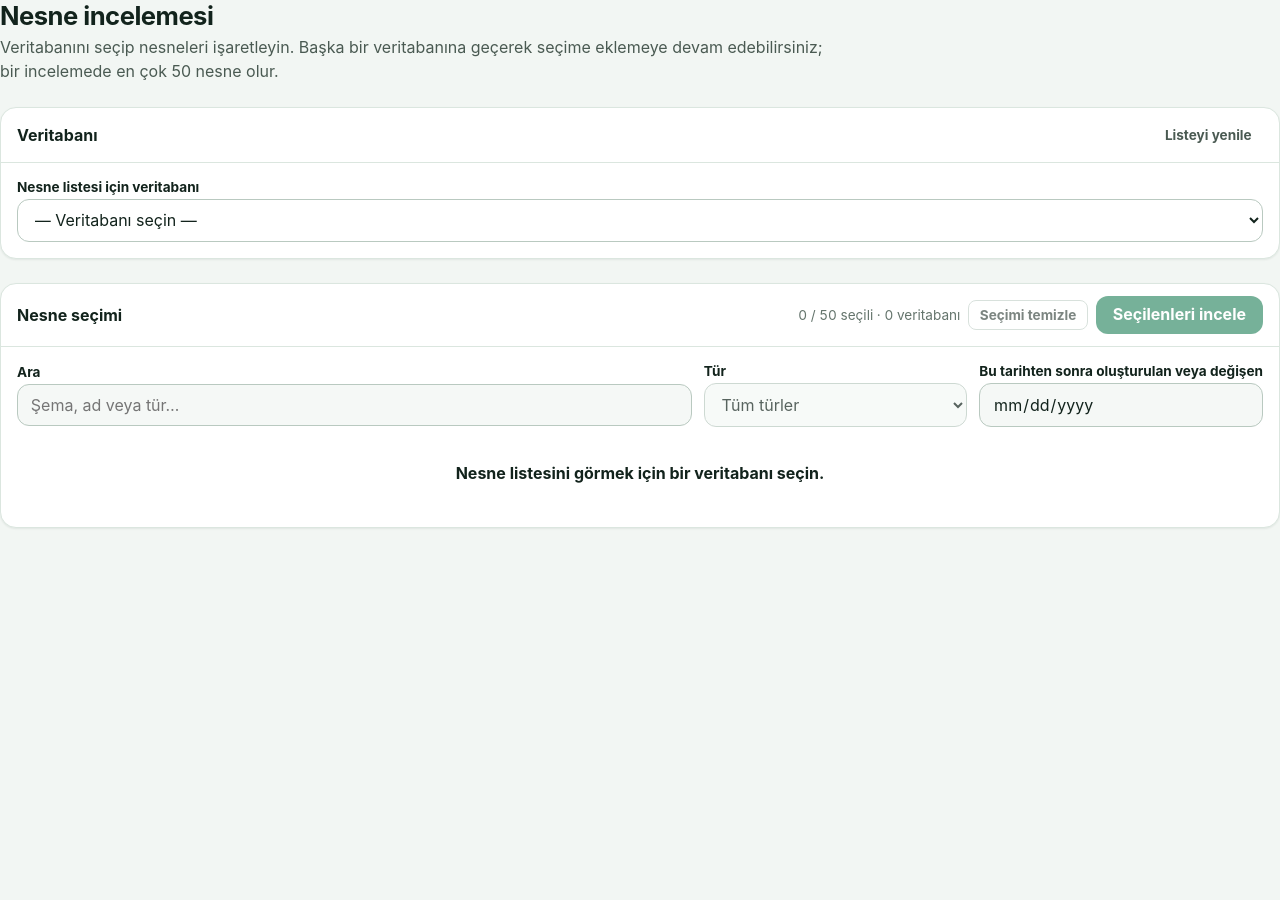
Test: object review page › toggles a row by clicking it and by its checkbox, and clears the selection
This screenshot has width=1280, height=900.
Select "DWH" in the dropdown labelled "Nesne listesi için veritabanı" at (640, 220), box [17,198,1263,242]
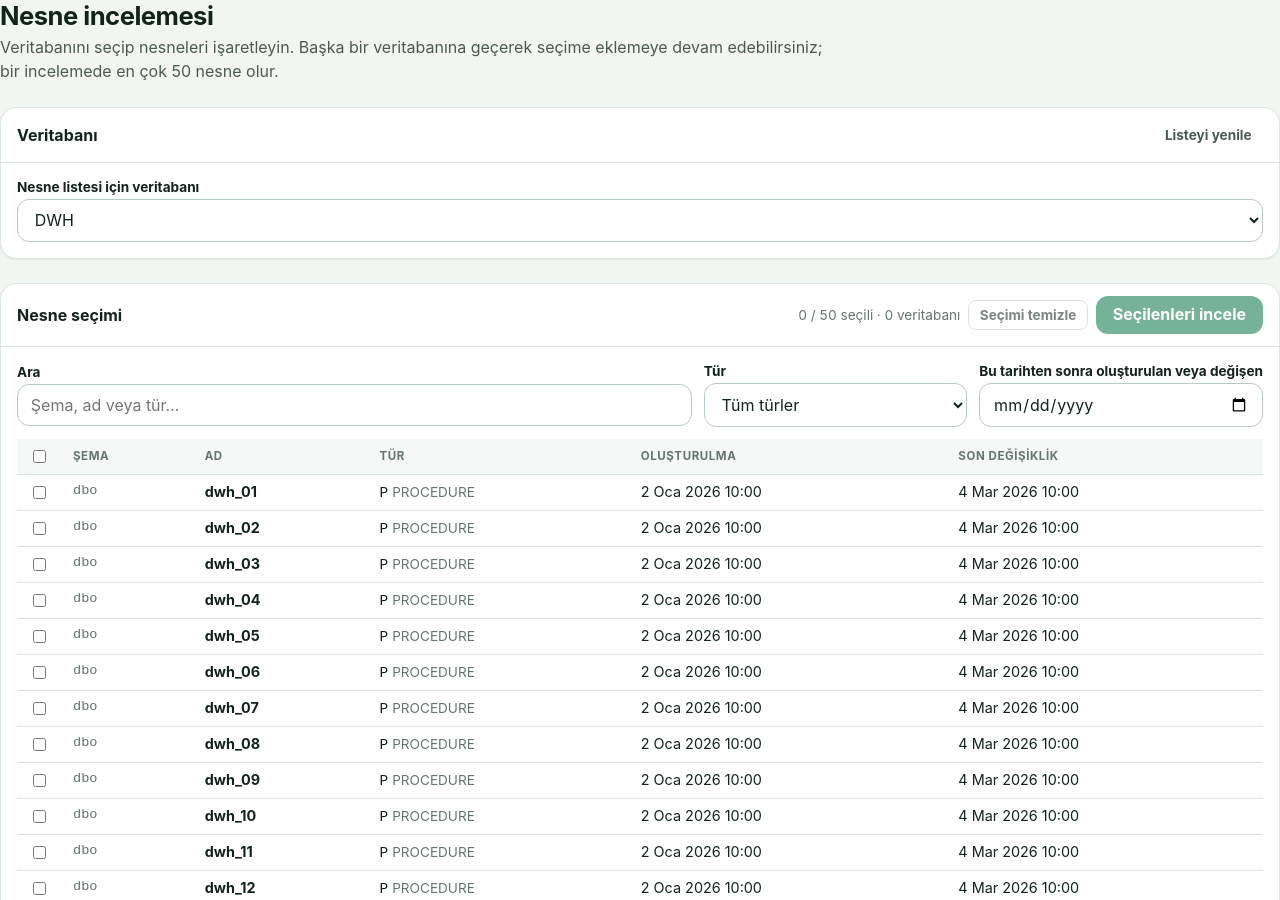
Click the row "dbo dwh_03 P PROCEDURE 2 Oca 2026 10:00 4 Mar 2026 10:00" at (640, 564), box [17,546,1263,582]
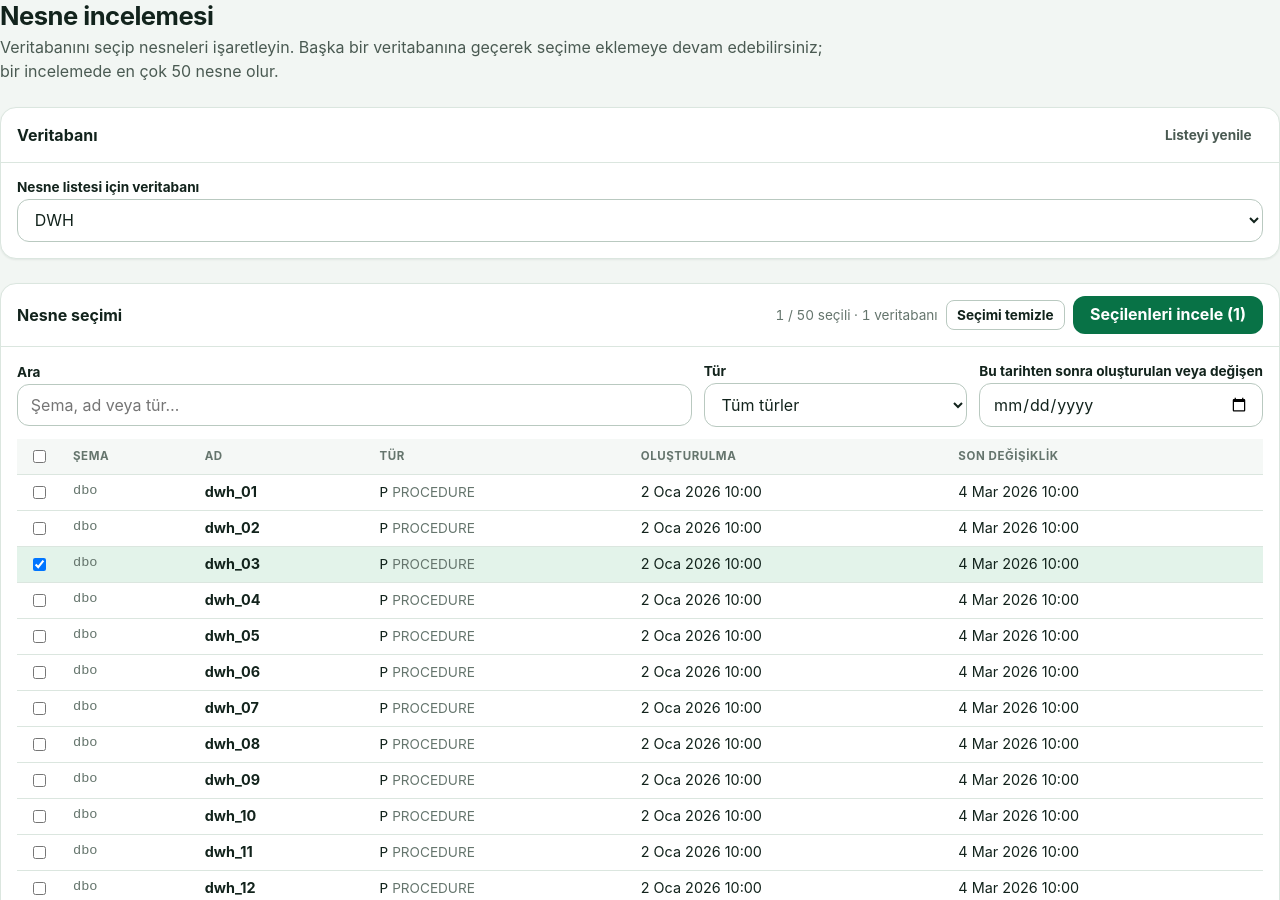
Click the checkbox named "dbo.dwh_03 seç" at (40, 564), box [33,558,46,571]
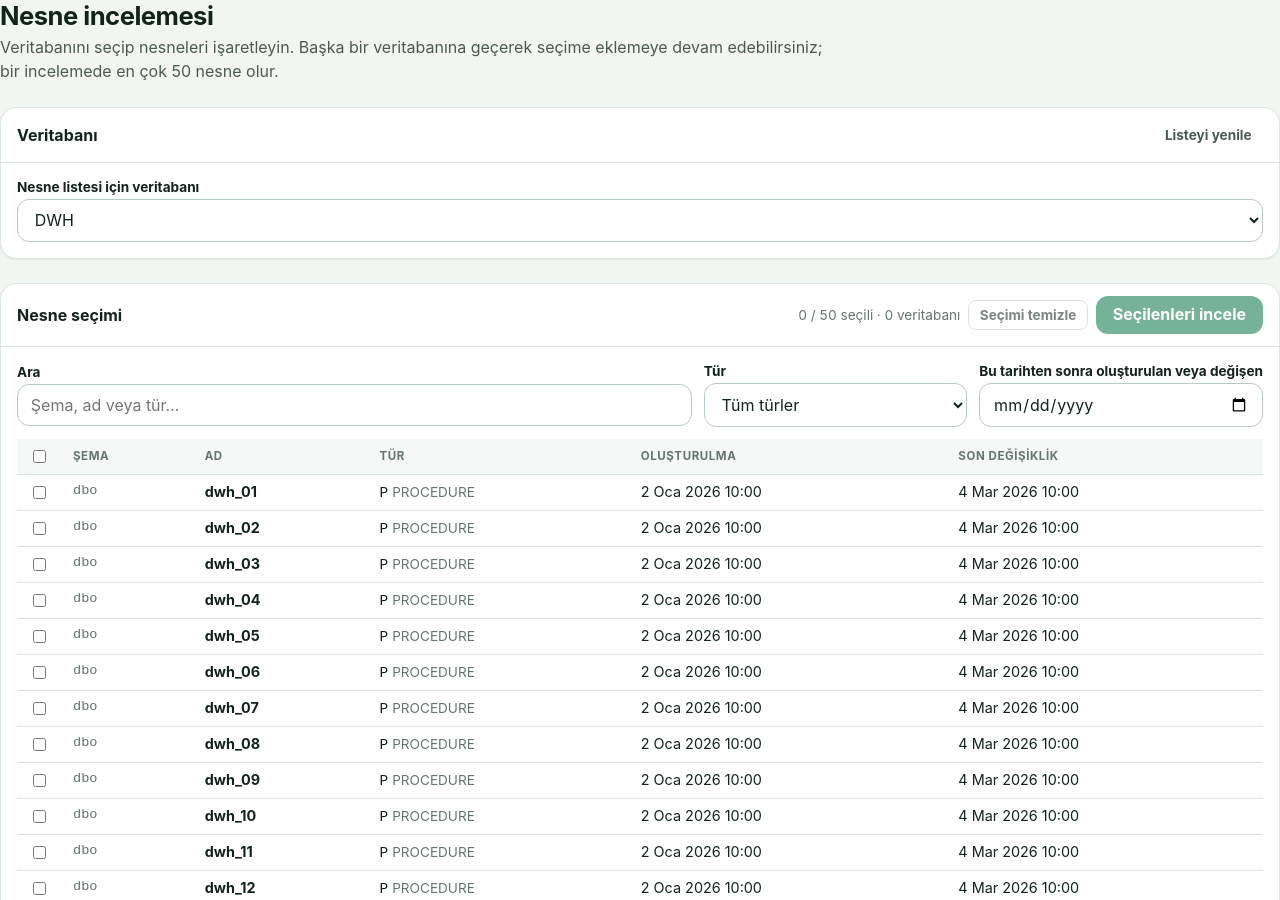
Click the row "dbo dwh_03 P PROCEDURE 2 Oca 2026 10:00 4 Mar 2026 10:00" at (640, 564), box [17,546,1263,582]
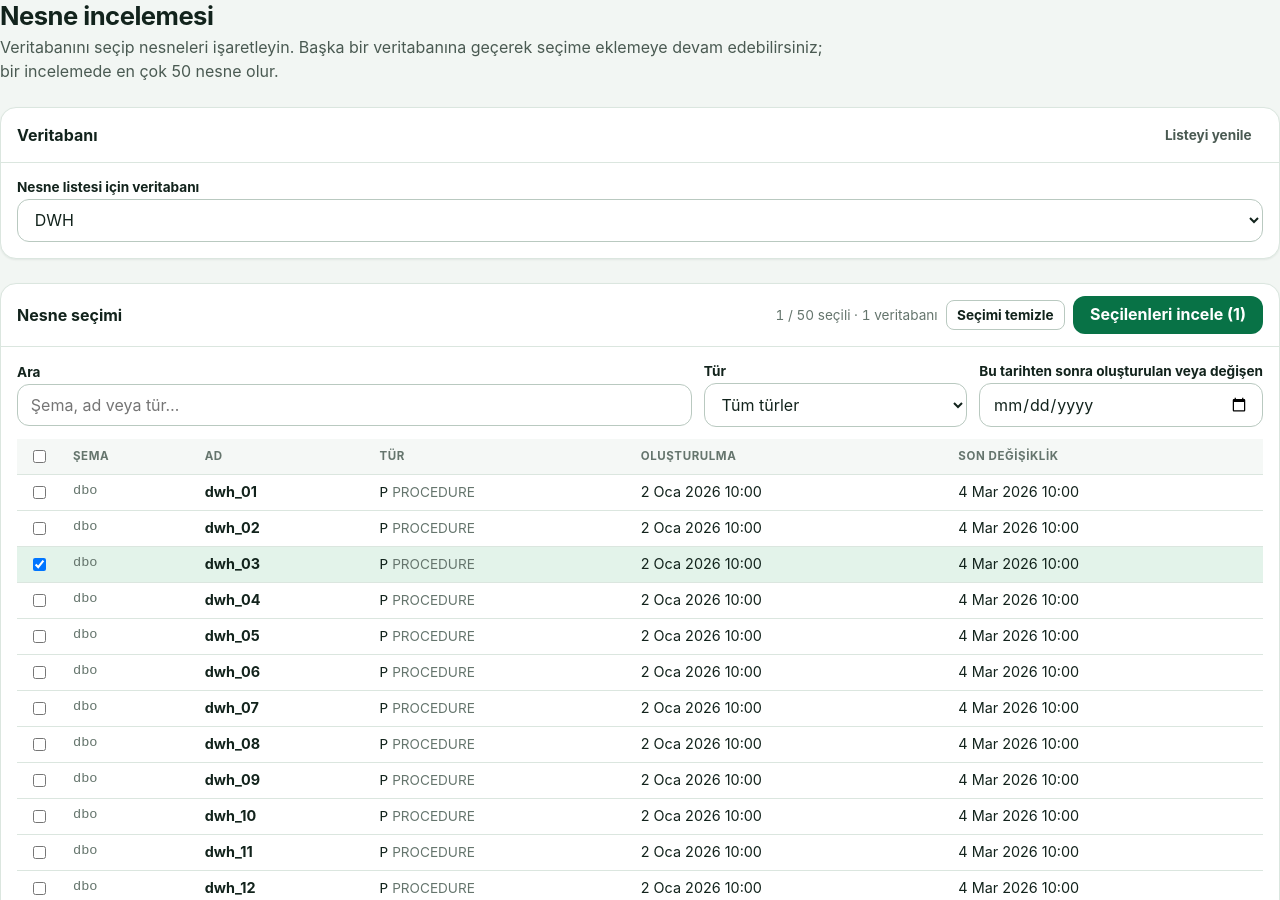
Click the button "Seçimi temizle" at (1005, 315), box [946,300,1065,330]
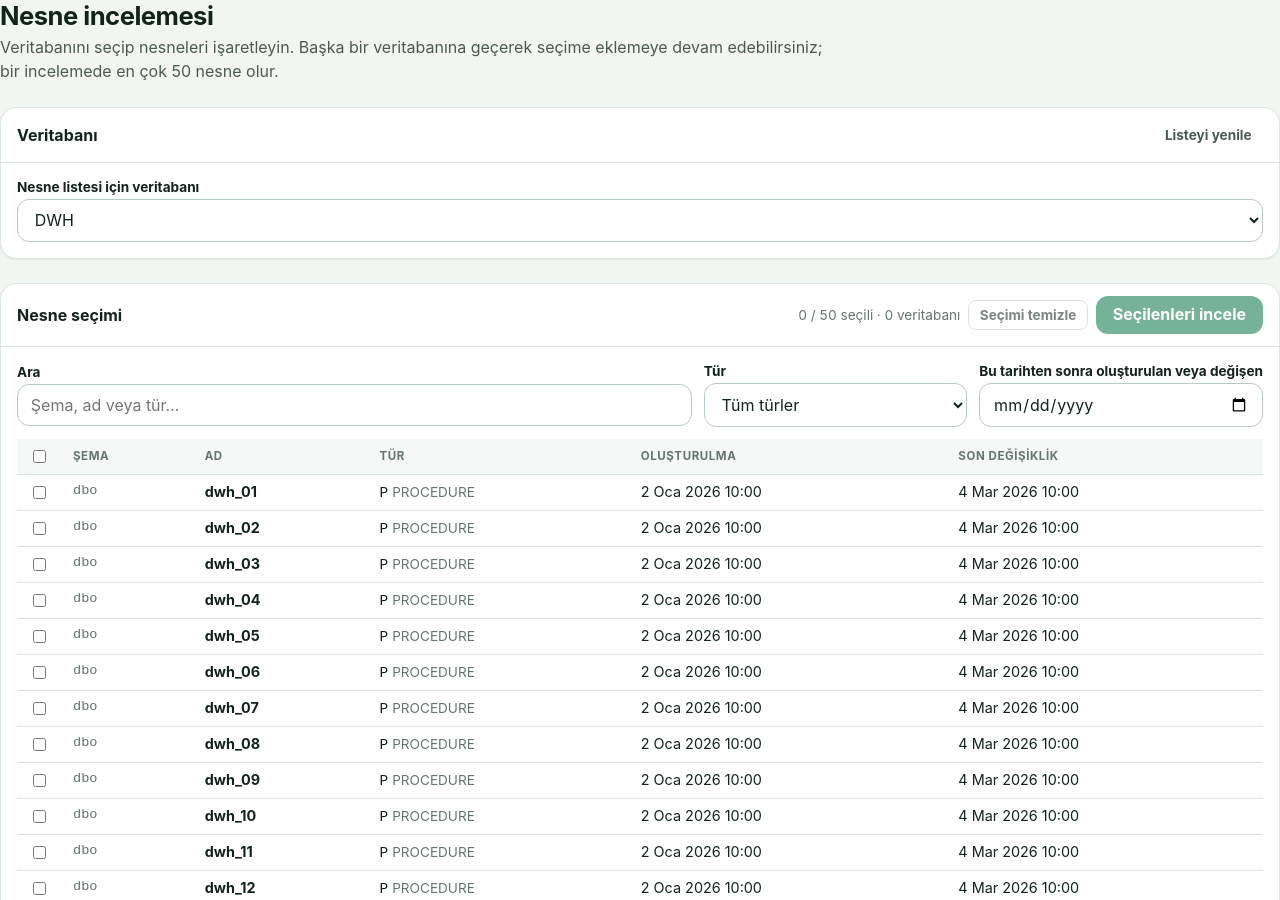
Check: the text "0 / 50 seçili · 0 veritabanı" is shown, box [798,307,960,323]
Check: the button with aria-label "İnceleme için en az bir nesne seçin" is disabled, box [1096,296,1263,334]
